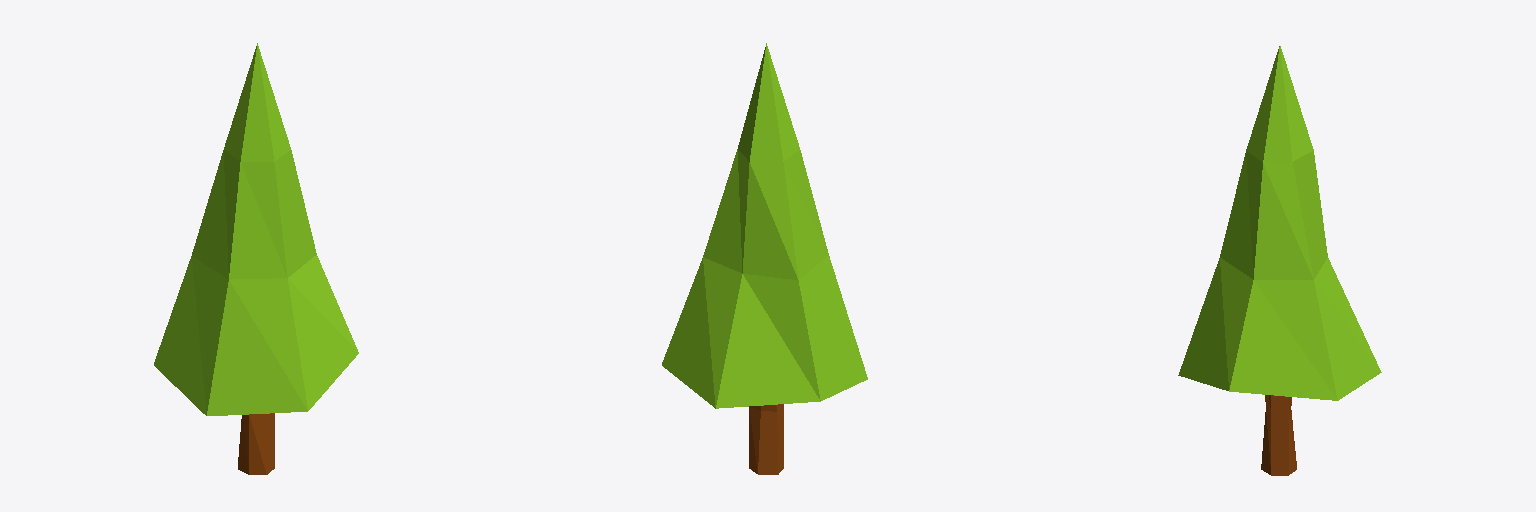
File: tree_0001.obj
3 views of the same model, side by side, from view 1: azimuth 30°, elevation 25°; view 2: azimuth 150°, elevation 25°; view 3: azimuth 270°, elevation 25° (orthographic).
Size of the model in its own units: 44.14 by 115 by 50.